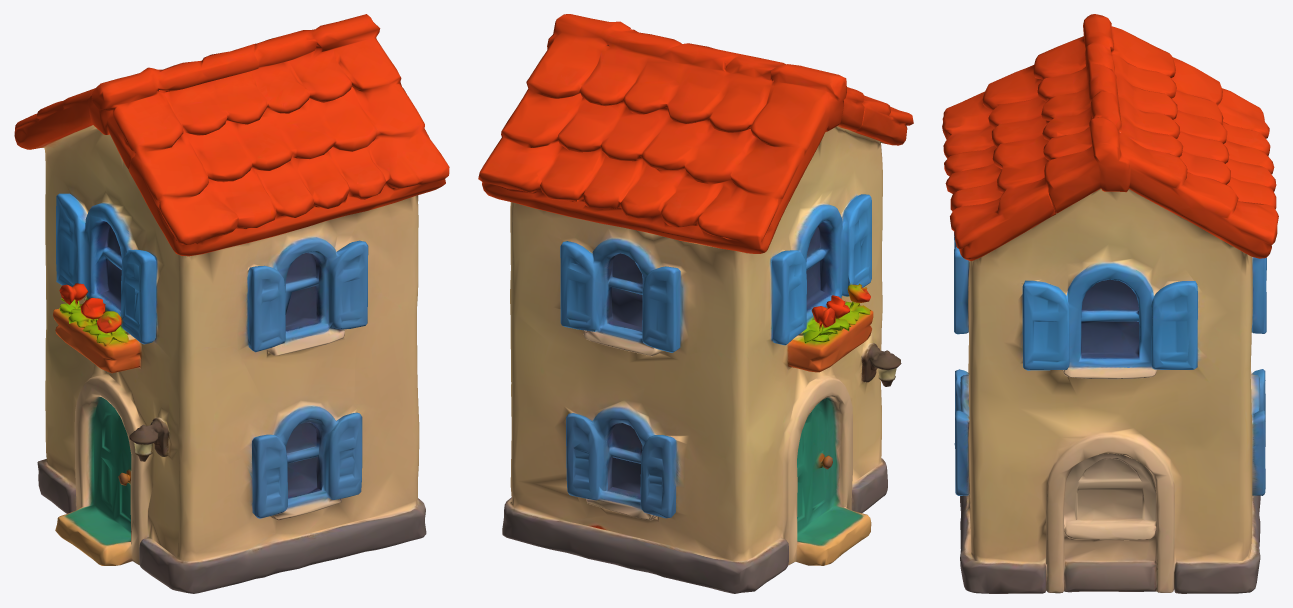
The model's file is townhouse.glb.
3 renders of one model, left to right at view 1: azimuth 30°, elevation 25°; view 2: azimuth 150°, elevation 25°; view 3: azimuth 270°, elevation 25°, orthographic. The views are drawn at different scales.
Visible parts, largest first — view 1: tripo_node_e36a2ea0-5623-4c29-b2f5-b919dbbe2634; view 2: tripo_node_e36a2ea0-5623-4c29-b2f5-b919dbbe2634; view 3: tripo_node_e36a2ea0-5623-4c29-b2f5-b919dbbe2634.
Part boxes in pixels (x1,y1,x2,y2): tripo_node_e36a2ea0-5623-4c29-b2f5-b919dbbe2634: (14, 14, 449, 593); tripo_node_e36a2ea0-5623-4c29-b2f5-b919dbbe2634: (478, 14, 913, 593); tripo_node_e36a2ea0-5623-4c29-b2f5-b919dbbe2634: (942, 14, 1278, 593).
Size of the model in its own units: 0.6719 by 1 by 0.6658.
Materials: 1 (1 with a texture image).
